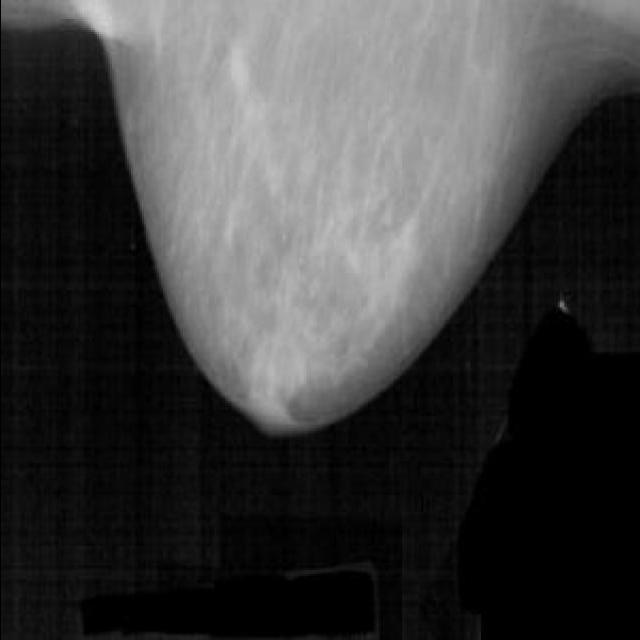tumor: (342, 227, 438, 347), (242, 304, 325, 422)
